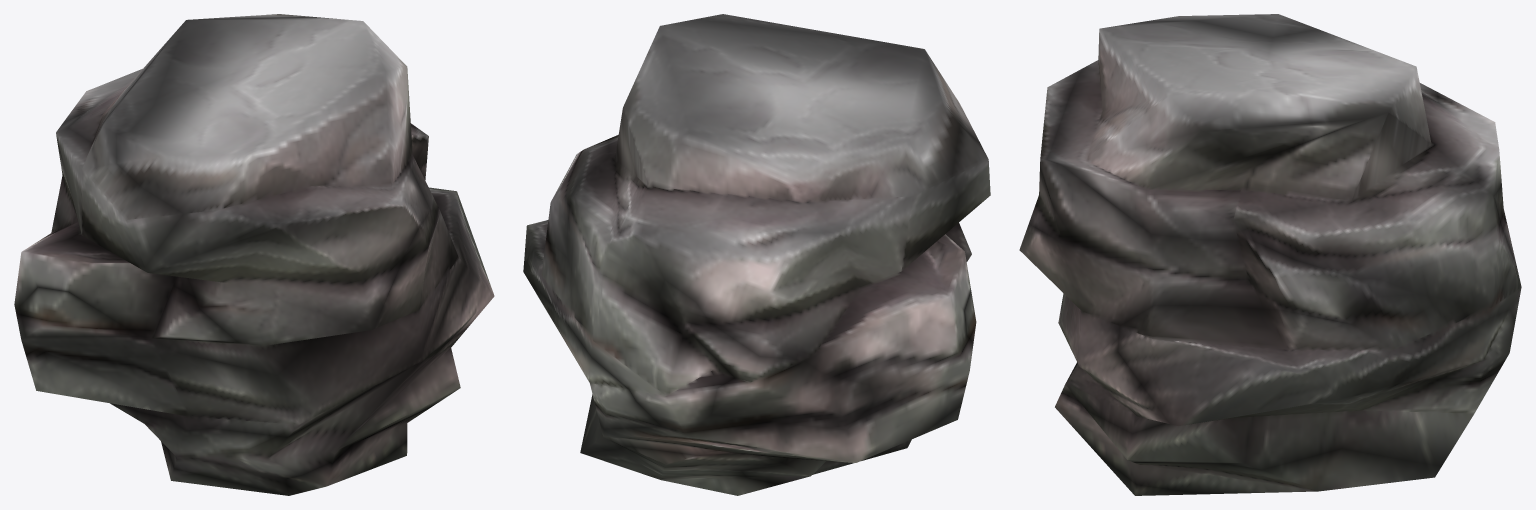
File: Mid 1.fbx
3 renders of one model, left to right at view 1: azimuth 30°, elevation 25°; view 2: azimuth 150°, elevation 25°; view 3: azimuth 270°, elevation 25°, orthographic. The views are drawn at different scales.
Visible parts, largest first — view 1: Mid_1; view 2: Mid_1; view 3: Mid_1.
Boxes of the visible parts, <box> form: Mid_1: <box>14,14,494,495</box>; Mid_1: <box>523,14,990,495</box>; Mid_1: <box>1019,14,1521,495</box>.
Size of the model in its own units: 433 by 378 by 404.
